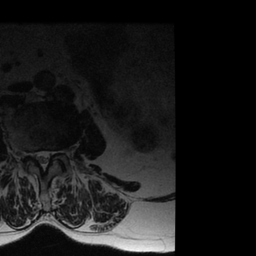CCS_normal: (40, 144, 46, 179)
LFS_severe_stenosis: (52, 142, 60, 161)
LLS_stenosis: (46, 142, 52, 167)
RFS_severe_stenosis: (26, 141, 32, 164)
RLS_normal: (32, 143, 39, 167)
